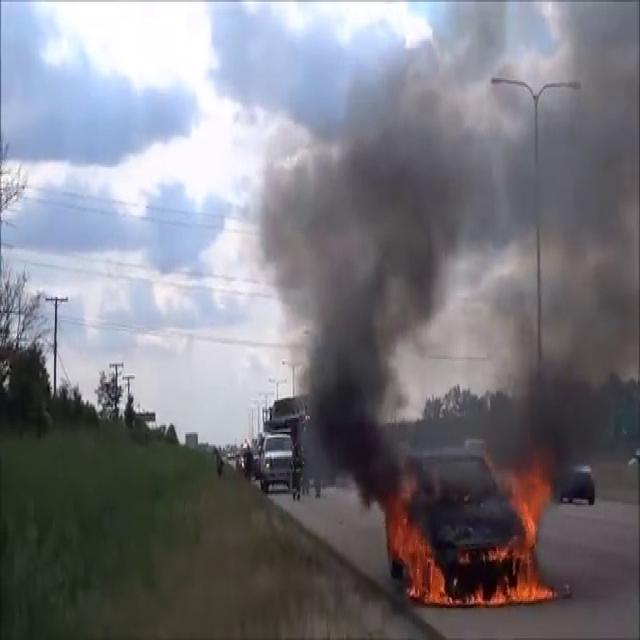Fire: (385, 465, 558, 611), (387, 488, 453, 609)
Smoke: (252, 2, 640, 480)
